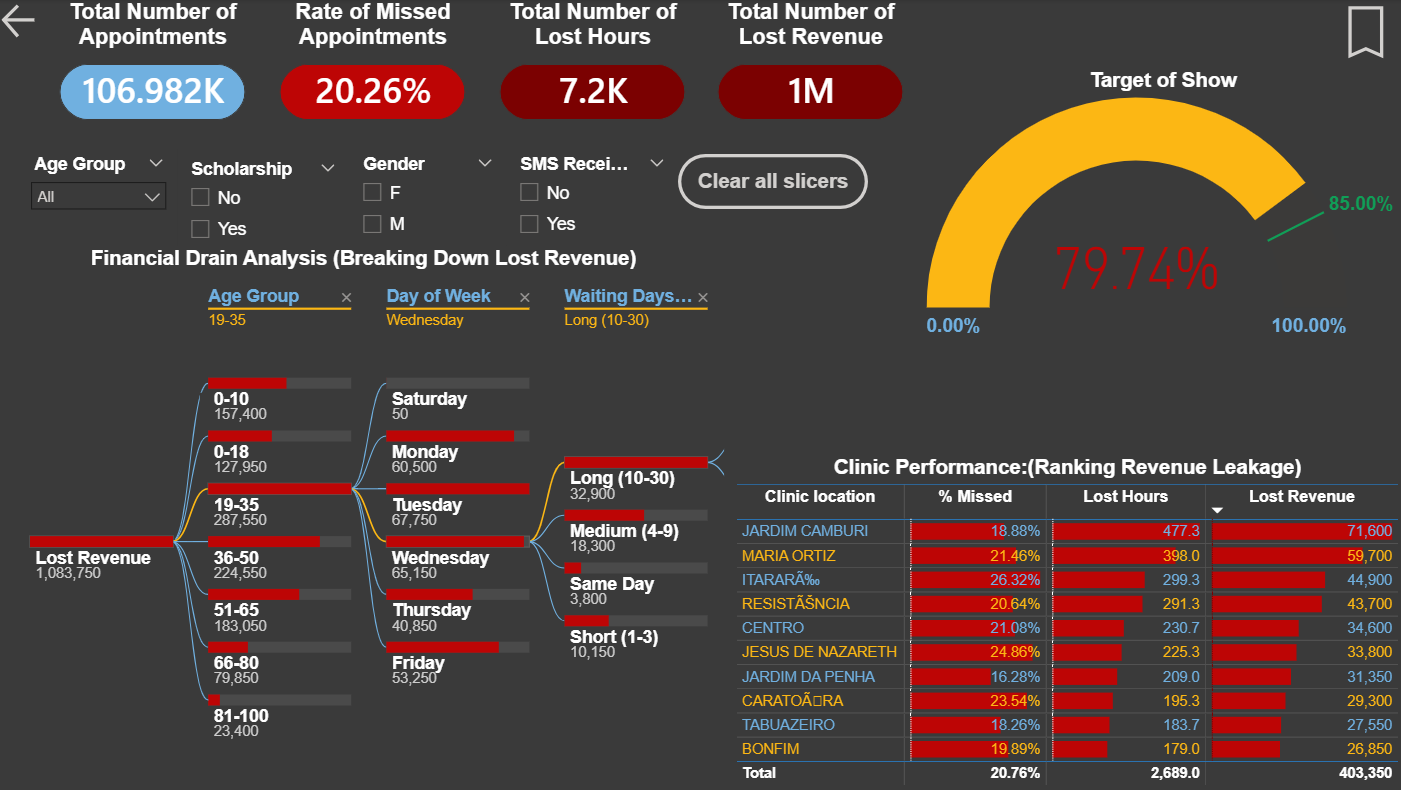

The dashboard page shown, as its layout file describes it:
{"tool":"powerbi","page":{"name":"Resource Management (Operational Waste)","canvas":[1280,720],"ordinal":4},"visuals":[{"type":"gauge","title":"Target of Show","fields":{"Y":["Medical Appointment 2016.% Show"]},"box":[726.4,394.5,546.4,294.5],"z":0},{"type":"tableEx","title":"Clinic Performance:(Ranking Revenue Leakage)","fields":{"Values":["Medical Appointment 2016.Clinic location","Medical Appointment 2016.% Missed","Medical Appointment 2016.Lost Hours","Medical Appointment 2016.Lost Revenue"]},"box":[55.5,394.5,613.6,305.5],"z":1000},{"type":"textbox","box":[342.7,20,690.9,48.2],"z":2000},{"type":"cardVisual","title":"Total Number of Missed by Long Waiting Days","fields":{"Data":["Medical Appointment 2016.Count Missed Long Waiting Days"]},"box":[19.1,68.2,243.6,125.5],"z":4000},{"type":"cardVisual","title":"Total Number of Lost Hours","fields":{"Data":["Medical Appointment 2016.Lost Hours"]},"box":[855.5,68.2,208.2,125.5],"z":5000},{"type":"cardVisual","title":"Total Number of Missed ","fields":{"Data":["Medical Appointment 2016.Total Missed"]},"box":[299.1,68.2,219.1,125.5],"z":6000},{"type":"cardVisual","title":"Rate of Missed ","fields":{"Data":["Medical Appointment 2016.% Missed"]},"box":[566.4,68.2,219,125.5],"z":7000},{"type":"cardVisual","title":"Total Number of Lost Revenue","fields":{"Data":["Medical Appointment 2016.Lost Revenue"]},"box":[1071.8,68.2,208.2,125.5],"z":8000}]}

Visuals, with their boxes in screenshot pixels (x1, y1, x2, y2), scaled from the page's 1280x720 canvas onto the 1401x790 screenshot:
"Target of Show" gauge: [x1=795, y1=433, x2=1393, y2=756]
"Clinic Performance:(Ranking Revenue Leakage)" tableEx: [x1=61, y1=433, x2=732, y2=768]
textbox: [x1=375, y1=22, x2=1131, y2=75]
"Total Number of Missed by Long Waiting Days" cardVisual: [x1=21, y1=75, x2=288, y2=213]
"Total Number of Lost Hours" cardVisual: [x1=936, y1=75, x2=1164, y2=213]
"Total Number of Missed " cardVisual: [x1=327, y1=75, x2=567, y2=213]
"Rate of Missed " cardVisual: [x1=620, y1=75, x2=860, y2=213]
"Total Number of Lost Revenue" cardVisual: [x1=1173, y1=75, x2=1400, y2=213]
